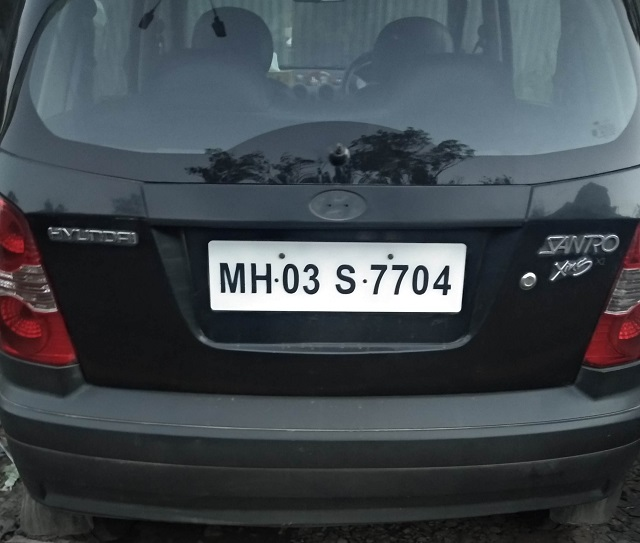licenseplate: (201, 231, 468, 317)
